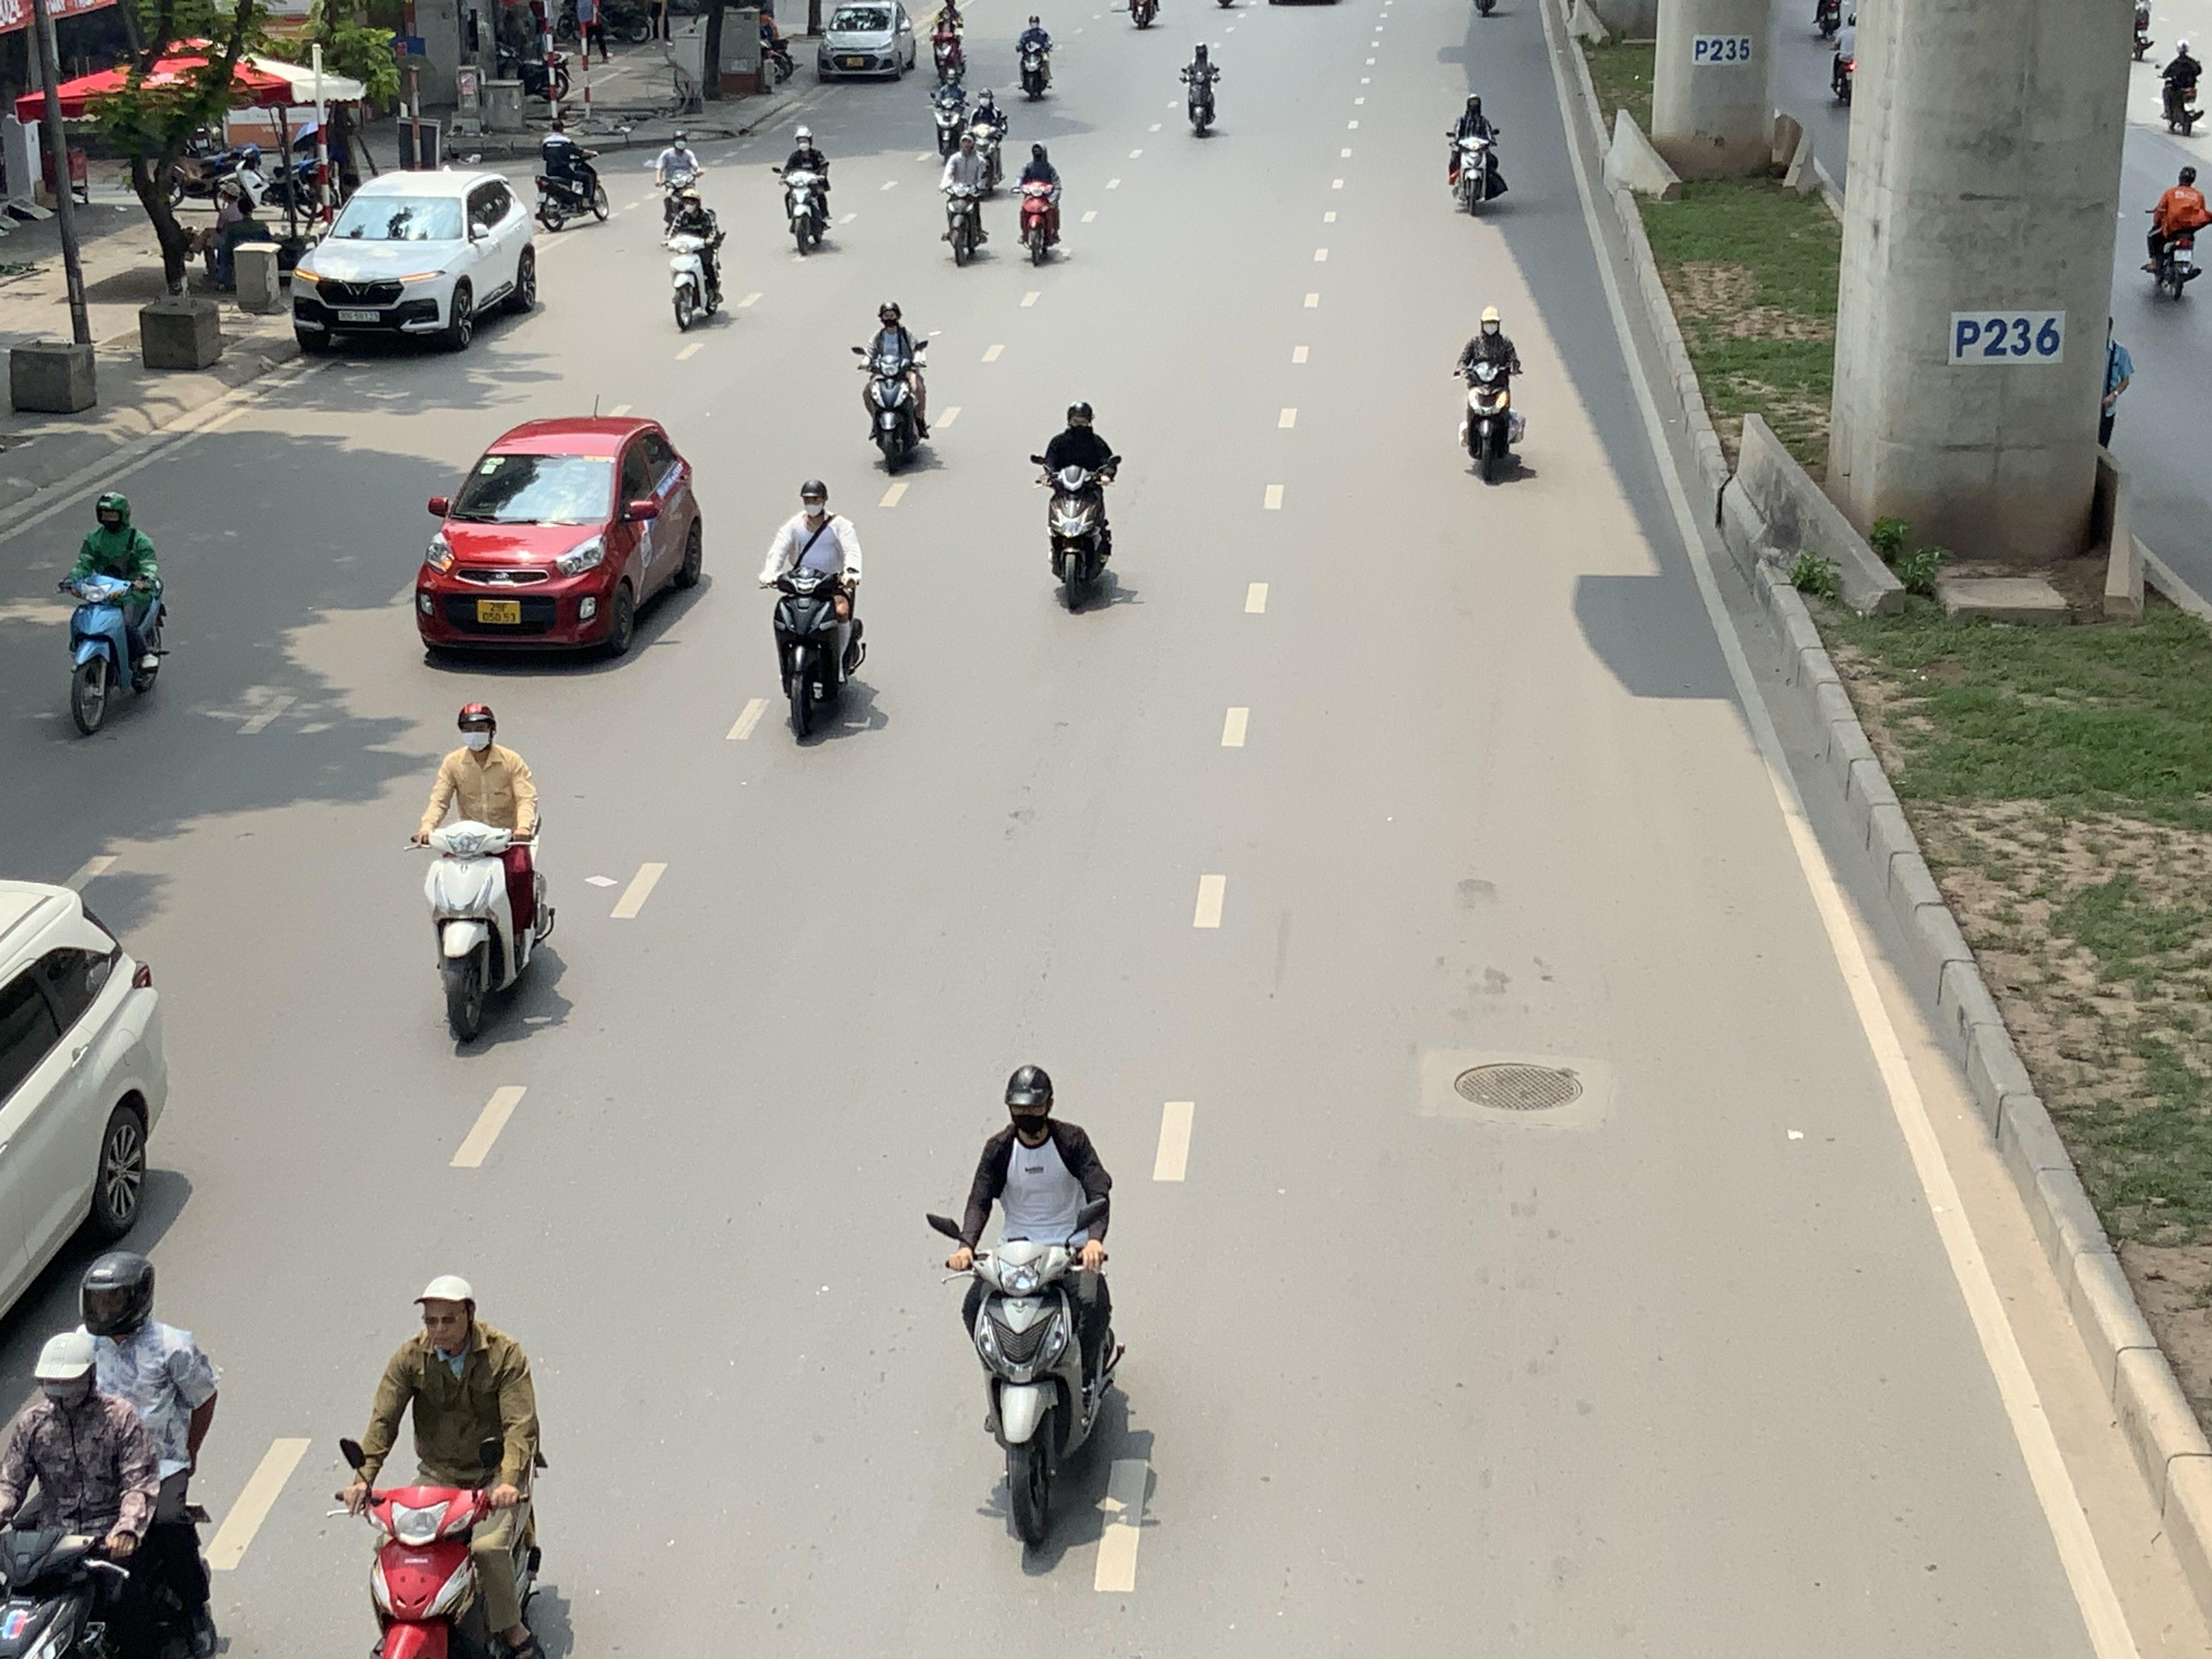BSD: (338, 310, 380, 322)
BSV: (477, 599, 521, 624)
car: (0, 871, 172, 1439), (413, 415, 707, 664), (289, 167, 540, 356), (817, 0, 916, 82)
motorbike: (930, 1061, 1132, 1554), (336, 1272, 568, 1659), (0, 1286, 230, 1659), (411, 701, 556, 1056), (763, 477, 867, 746), (59, 493, 167, 737), (1035, 399, 1118, 613), (855, 300, 935, 476), (1456, 307, 1529, 486), (2142, 164, 2212, 303), (667, 186, 728, 331), (533, 119, 610, 232), (1446, 91, 1507, 216), (941, 127, 993, 267), (777, 127, 833, 256), (1015, 141, 1066, 267), (653, 132, 704, 228), (2158, 38, 2207, 136), (967, 85, 1010, 193), (1179, 42, 1221, 138), (928, 68, 968, 162), (1015, 12, 1055, 103), (1829, 3, 1860, 108), (928, 2, 968, 80), (2128, 0, 2156, 61)
